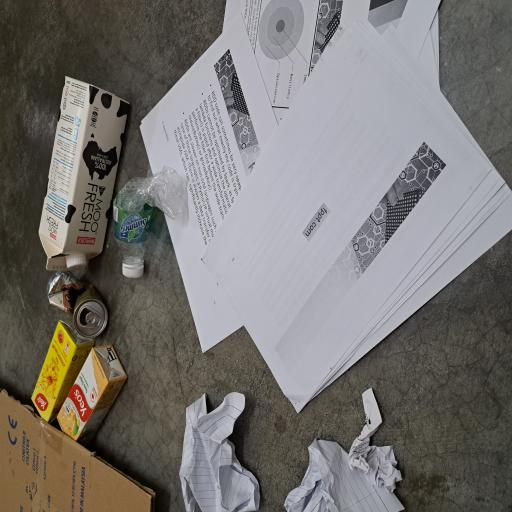can: (130, 62, 180, 146)
cardboard: (0, 0, 93, 209)
drink carton: (180, 50, 326, 172), (51, 76, 126, 169), (68, 41, 144, 127)
paper: (75, 182, 384, 512), (0, 378, 93, 512), (0, 241, 89, 349)
plastic bottle: (174, 147, 257, 243)
plastic bottle cap: (174, 162, 193, 196), (180, 86, 194, 119)
pop tab: (138, 114, 152, 134)
